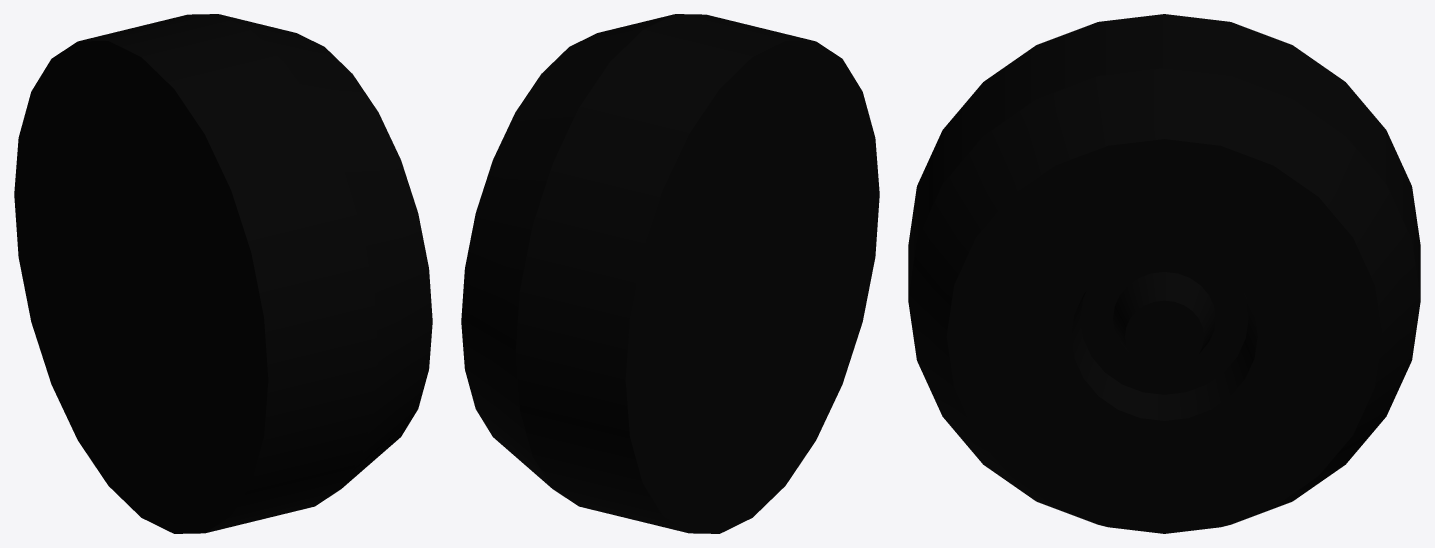
Rendered from wheelLeft.glb.
3 views of the same model, side by side, from view 1: azimuth 30°, elevation 25°; view 2: azimuth 150°, elevation 25°; view 3: azimuth 270°, elevation 25° (orthographic).
Visible parts, largest first — view 1: mesh_id5; view 2: mesh_id5; view 3: mesh_id5, mesh_id6, mesh_id7.
Part boxes in pixels (x1,y1,x2,y2): mesh_id5: (14,14,432,533); mesh_id5: (461,14,879,533); mesh_id5: (908,14,1420,533); mesh_id6: (1032,217,1296,455); mesh_id7: (1113,272,1215,372).
Bounding box in the file's own units: 0.2133 × 0.512 × 0.512.
3 materials, 3 textured.
